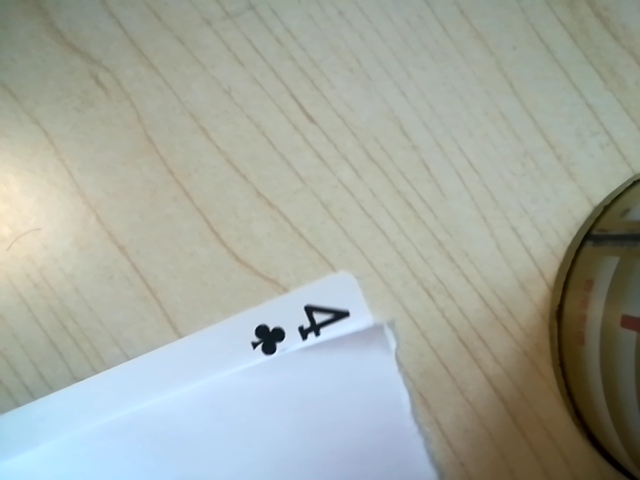mh 4: (232, 295, 370, 365)
